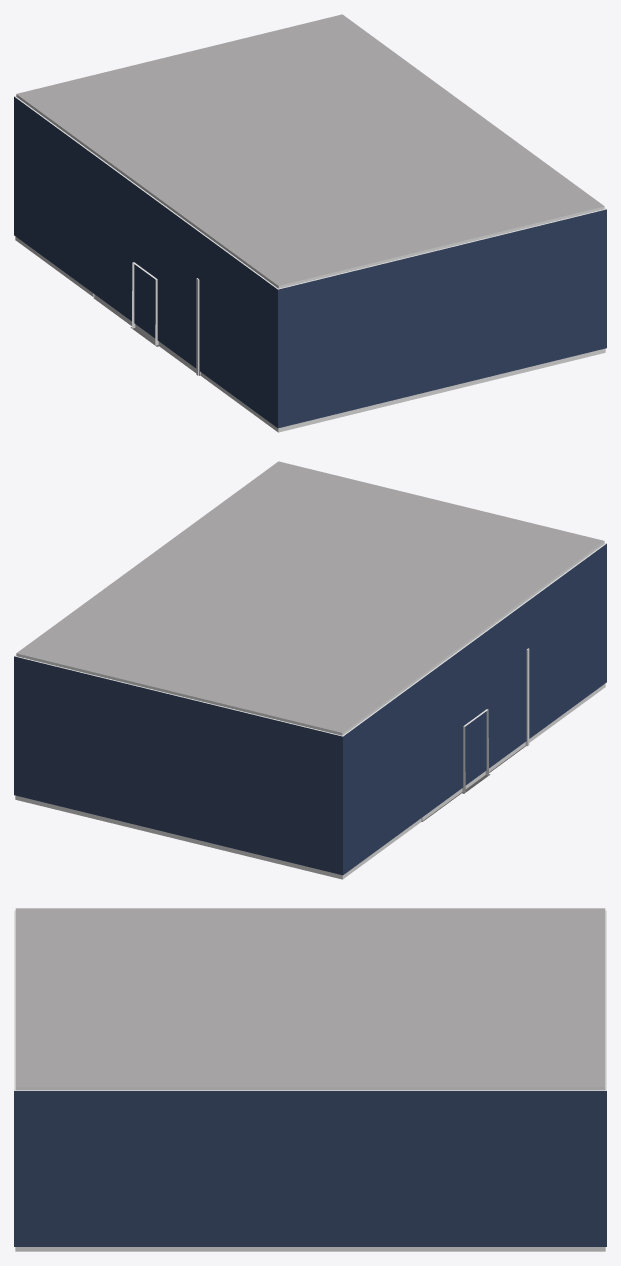
File: InteriorRooms.fbx
3 renders of one model, top to bottom at view 1: azimuth 30°, elevation 25°; view 2: azimuth 150°, elevation 25°; view 3: azimuth 270°, elevation 25°, orthographic. The views are drawn at different scales.
Visible parts, largest first — view 1: Room.5, Room.4, Hall.0, Hall.2, Room.0, Room.3, Room.2; view 2: Room.5, Room.2, Room.4, Hall.0, Hall.2, Room.3; view 3: Room.5, Room.4, Room.3.
Boxes of the visible parts, <box> form: Room.5: <box>14,14,606,432</box>; Room.4: <box>14,147,606,363</box>; Hall.0: <box>93,205,159,345</box>; Hall.2: <box>92,204,158,340</box>; Room.0: <box>146,244,196,368</box>; Room.3: <box>99,231,196,366</box>; Room.2: <box>41,167,251,411</box>; Room.5: <box>14,461,606,879</box>; Room.2: <box>369,613,580,855</box>; Room.4: <box>14,594,606,810</box>; Hall.0: <box>461,688,496,788</box>; Hall.2: <box>421,682,487,821</box>; Room.3: <box>422,679,491,820</box>; Room.5: <box>14,908,606,1251</box>; Room.4: <box>14,1147,606,1174</box>; Room.3: <box>191,1147,429,1251</box>.
Bounding box in the file's own units: 28.8 × 12.15 × 39.73.
